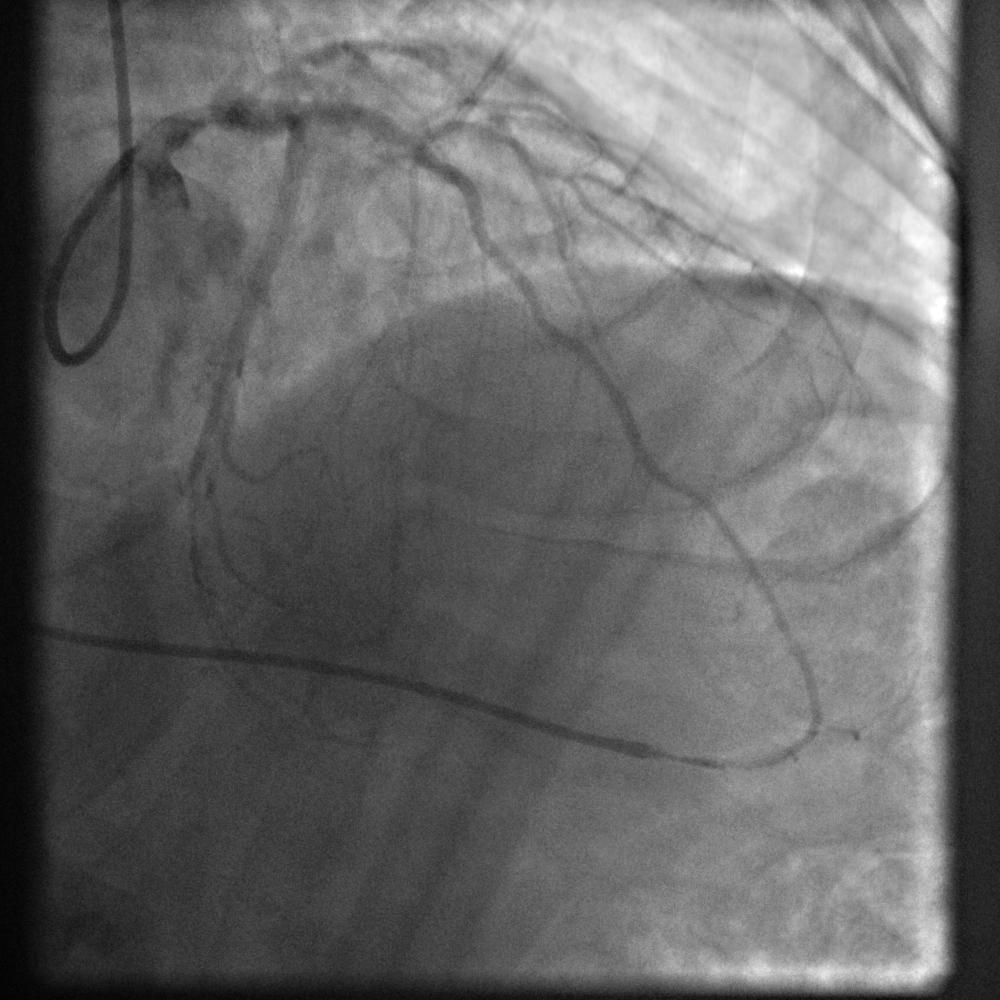Stenosis: (384, 121, 458, 175)
